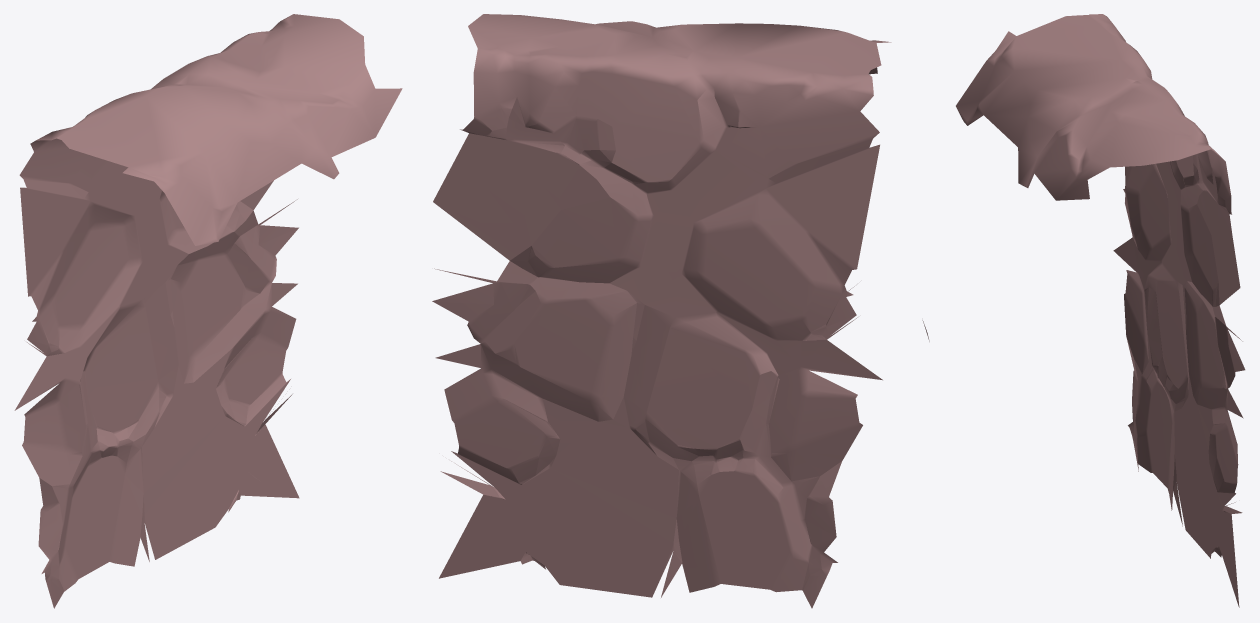
The model's file is canyon.fbx_PolyShape__3__024LODs.fbx.
3 renders of one model, left to right at view 1: azimuth 30°, elevation 25°; view 2: azimuth 150°, elevation 25°; view 3: azimuth 270°, elevation 25°, orthographic. The views are drawn at different scales.
Parts seen in each view (by area): view 1: PolyShape (3).024_LOD0; view 2: PolyShape (3).024_LOD0; view 3: PolyShape (3).024_LOD0.
Boxes of the visible parts, box(x1,y1,x2,y2) form: PolyShape (3).024_LOD0: box(14, 14, 402, 608); PolyShape (3).024_LOD0: box(432, 14, 891, 608); PolyShape (3).024_LOD0: box(922, 14, 1245, 607).
Size of what is drawn, in the model's own units: 2880 by 3696 by 2397.
